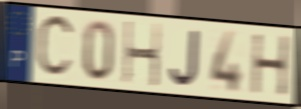0: (81, 17, 117, 84)
4: (208, 28, 246, 96)
C: (35, 12, 77, 82)
H: (122, 19, 163, 90), (250, 32, 291, 98)
J: (168, 27, 201, 88)
